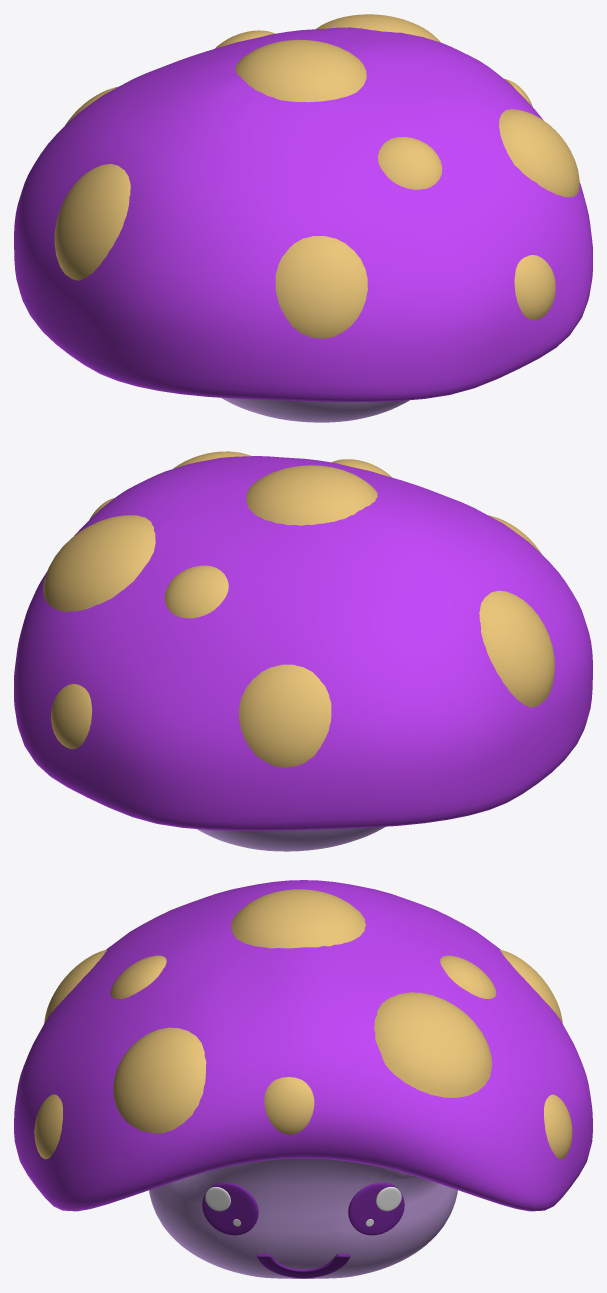
Rendered from sabsey-hides.fbx.
3 renders of one model, top to bottom at view 1: azimuth 30°, elevation 25°; view 2: azimuth 150°, elevation 25°; view 3: azimuth 270°, elevation 25°, orthographic.
Parts seen in each view (by area): view 1: Hongo.001; view 2: Hongo.001; view 3: Hongo.001.
Boxes of the visible parts, bbox=[...] form: Hongo.001: bbox=[14, 14, 592, 422]; Hongo.001: bbox=[14, 451, 592, 851]; Hongo.001: bbox=[14, 880, 592, 1278].
Bounding box in the file's own units: 125 × 91.76 × 137.
